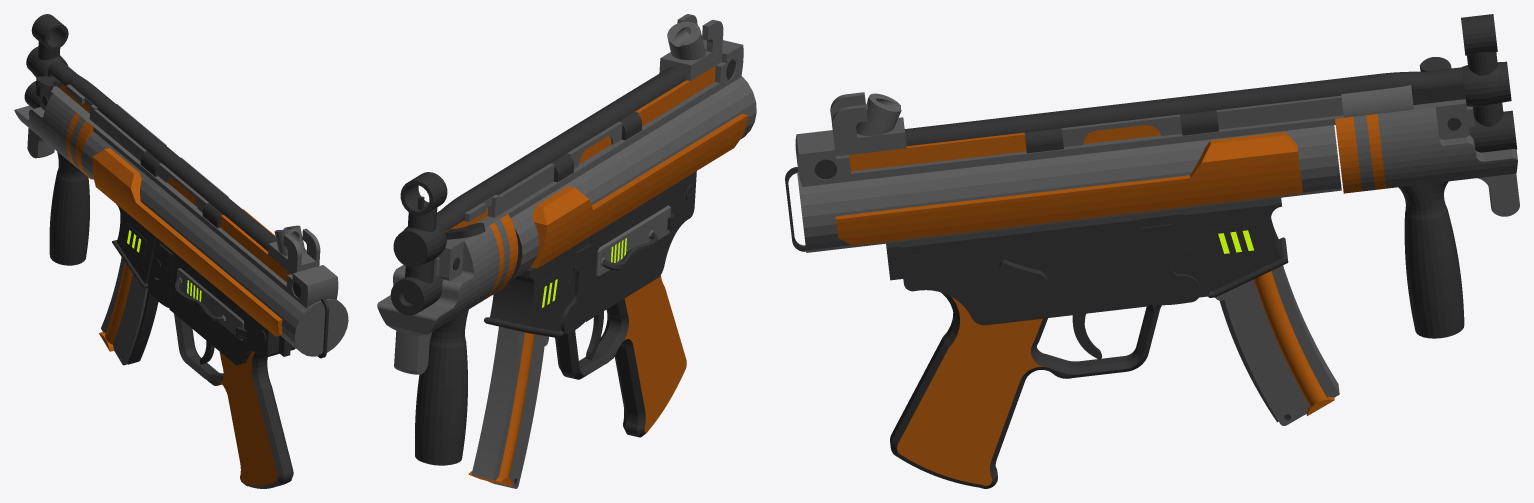
File: uzi.glb
3 renders of one model, left to right at view 1: azimuth 30°, elevation 25°; view 2: azimuth 150°, elevation 25°; view 3: azimuth 270°, elevation 25°, orthographic. The views are drawn at different scales.
Visible parts, largest first — view 1: uzi; view 2: uzi; view 3: uzi.
Part boxes in pixels (x1,y1,x2,y2): uzi: (14, 14, 348, 488); uzi: (377, 14, 756, 488); uzi: (785, 14, 1519, 488).
Size of the model in its own units: 0.0473 by 0.1867 by 0.2715.
